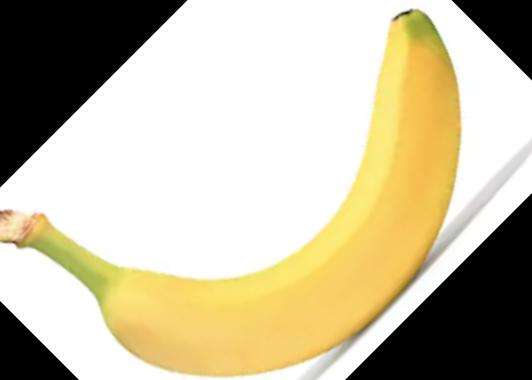Banana Ripe: (0, 0, 489, 369)
